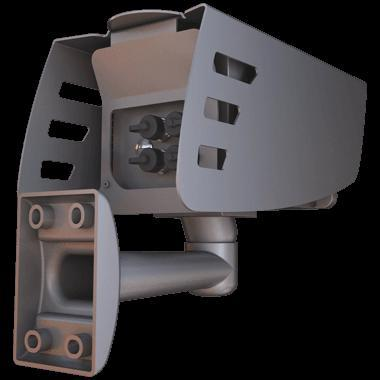Monitor: (12, 2, 368, 377)
